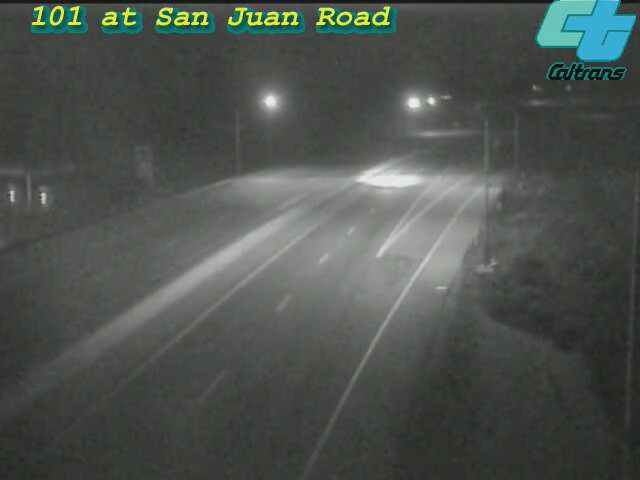vehicle: (346, 142, 426, 222)
